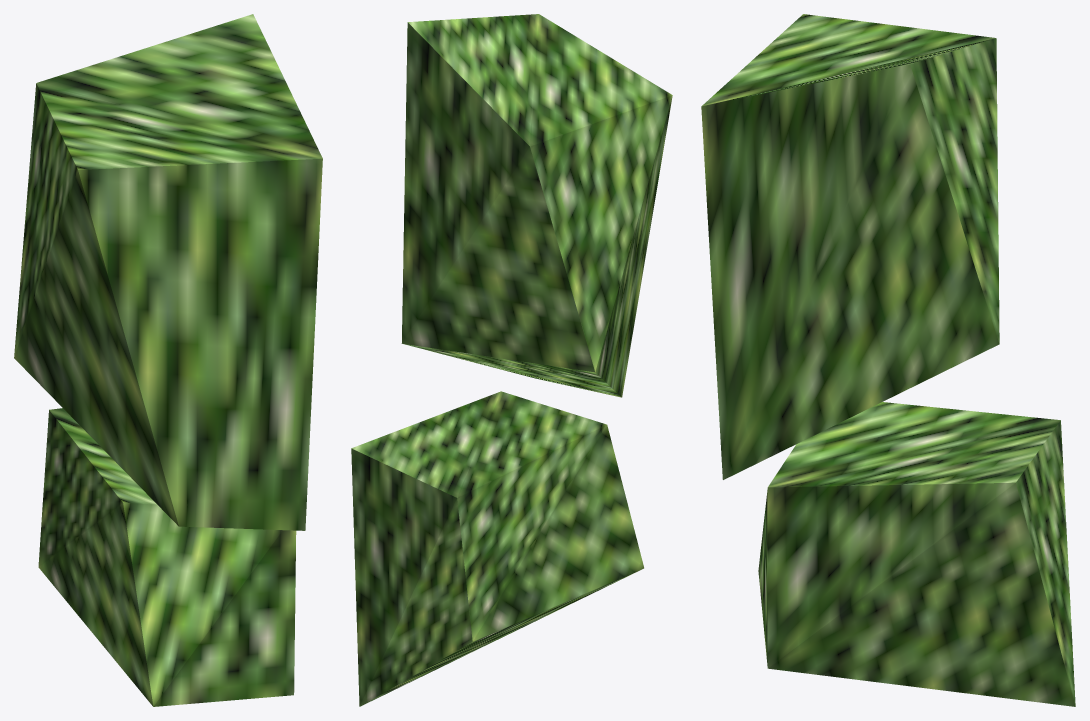
The model's file is Hojas2.obj.
The picture shows the model from 3 angles, left to right: view 1: azimuth 30°, elevation 25°; view 2: azimuth 150°, elevation 25°; view 3: azimuth 270°, elevation 25°; orthographic projection. The views are drawn at different scales.
Parts seen in each view (by area): view 1: Cube, Cube1; view 2: Cube, Cube1; view 3: Cube, Cube1.
Boxes of the visible parts, x1,y1,x2,y2 form: Cube: [14, 14, 322, 530]; Cube1: [38, 408, 296, 706]; Cube: [401, 14, 672, 397]; Cube1: [351, 391, 643, 706]; Cube: [701, 14, 999, 479]; Cube1: [758, 402, 1075, 706].
Size of the model in its own units: 0.3724 by 0.998 by 0.5145.
4 materials, 4 textured.
